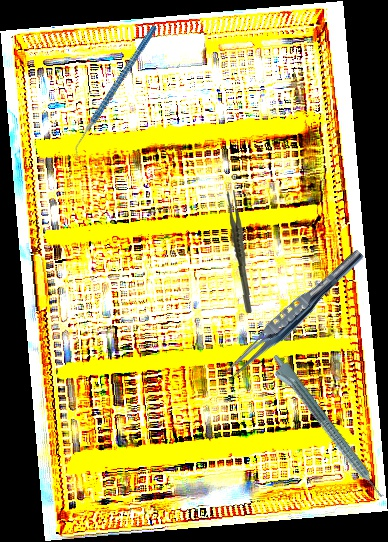Chopper: (39, 24, 192, 162)
Handpiece: (264, 352, 387, 505)
Tissue Forceps: (217, 243, 368, 389), (221, 189, 258, 314)
